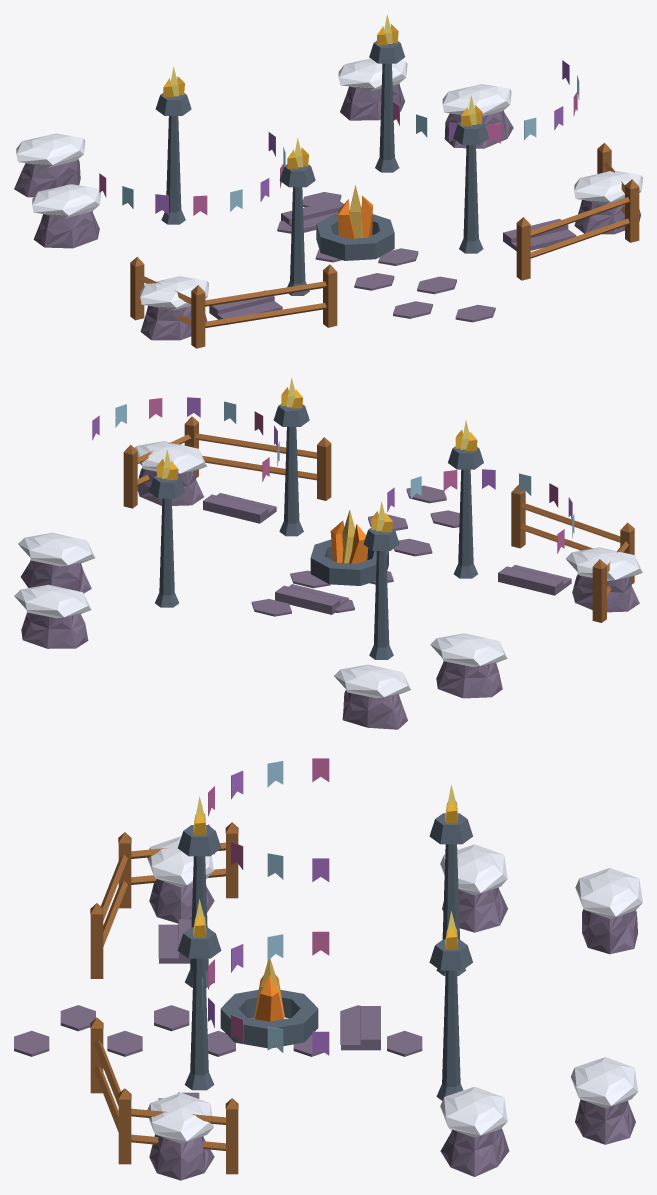
File: decoration.glb
3 renders of one model, top to bottom at view 1: azimuth 30°, elevation 25°; view 2: azimuth 150°, elevation 25°; view 3: azimuth 270°, elevation 25°, orthographic. The views are drawn at different scales.
Parts seen in each view (by area): view 1: 09_R2B_Yaks_TorchesSnowAndCourtyard; view 2: 09_R2B_Yaks_TorchesSnowAndCourtyard; view 3: 09_R2B_Yaks_TorchesSnowAndCourtyard.
Boxes of the visible parts, x1,y1,x2,y2 form: 09_R2B_Yaks_TorchesSnowAndCourtyard: (14, 14, 642, 348); 09_R2B_Yaks_TorchesSnowAndCourtyard: (14, 377, 642, 729); 09_R2B_Yaks_TorchesSnowAndCourtyard: (14, 758, 642, 1180).
Bounding box in the file's own units: 1.48 × 0.43 × 1.32.
